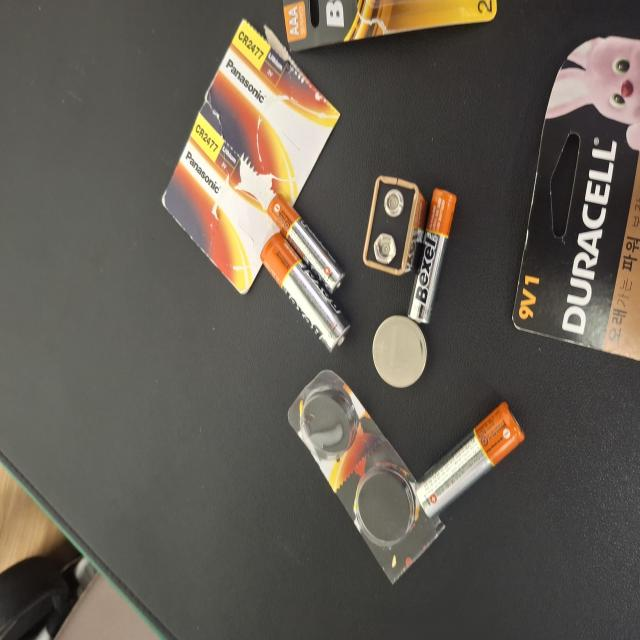9V: (274, 484, 348, 574)
AA: (216, 348, 304, 466), (92, 554, 178, 640)
AAA: (261, 356, 334, 459), (238, 544, 338, 608)
COIN: (189, 497, 243, 569)
